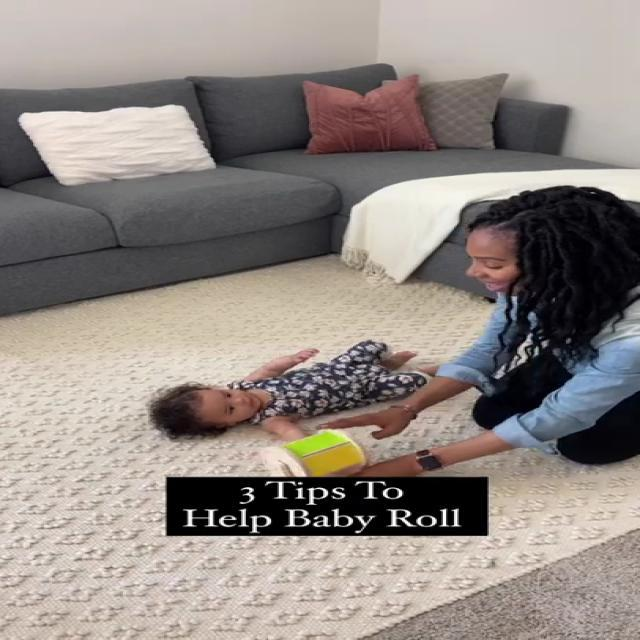baby: (142, 336, 450, 442)
